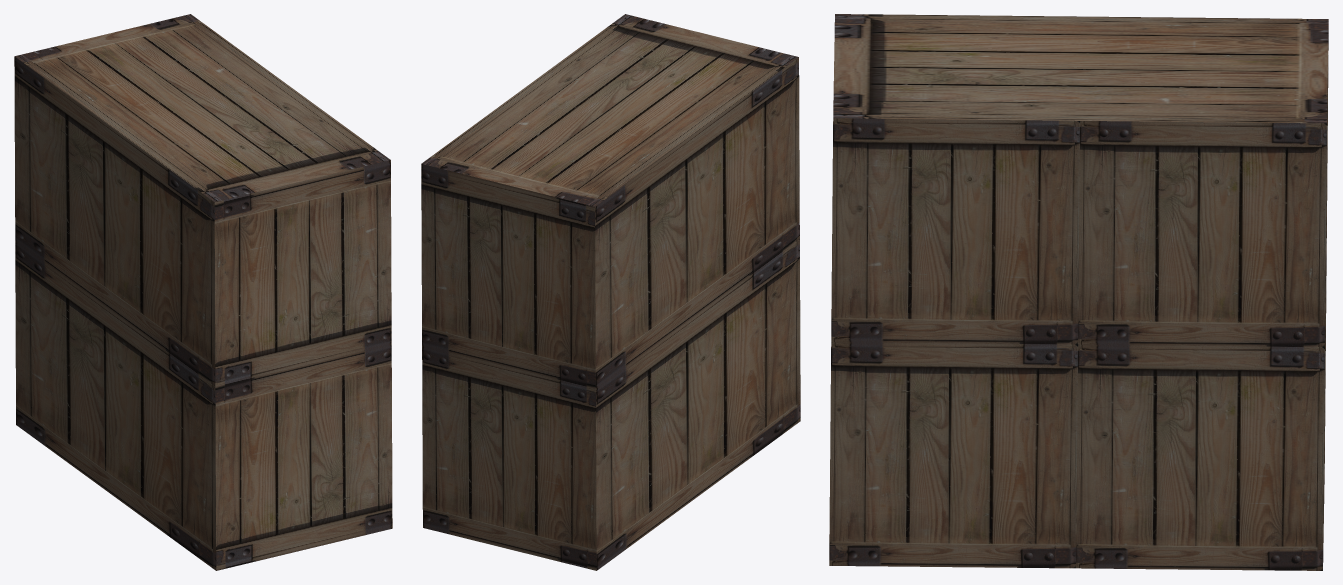
The model's file is mobilecrate.glb.
The picture shows the model from 3 angles, left to right: view 1: azimuth 30°, elevation 25°; view 2: azimuth 150°, elevation 25°; view 3: azimuth 270°, elevation 25°; orthographic projection. The views are drawn at different scales.
Parts seen in each view (by area): view 1: Cube.004; view 2: Cube.004; view 3: Cube.004.
Boxes of the visible parts, x1,y1,x2,y2 form: Cube.004: [14, 14, 392, 570]; Cube.004: [421, 14, 800, 570]; Cube.004: [829, 14, 1328, 570].
Size of the model in its own units: 0.2536 by 0.504 by 0.5058.
1 material, 1 textured.
